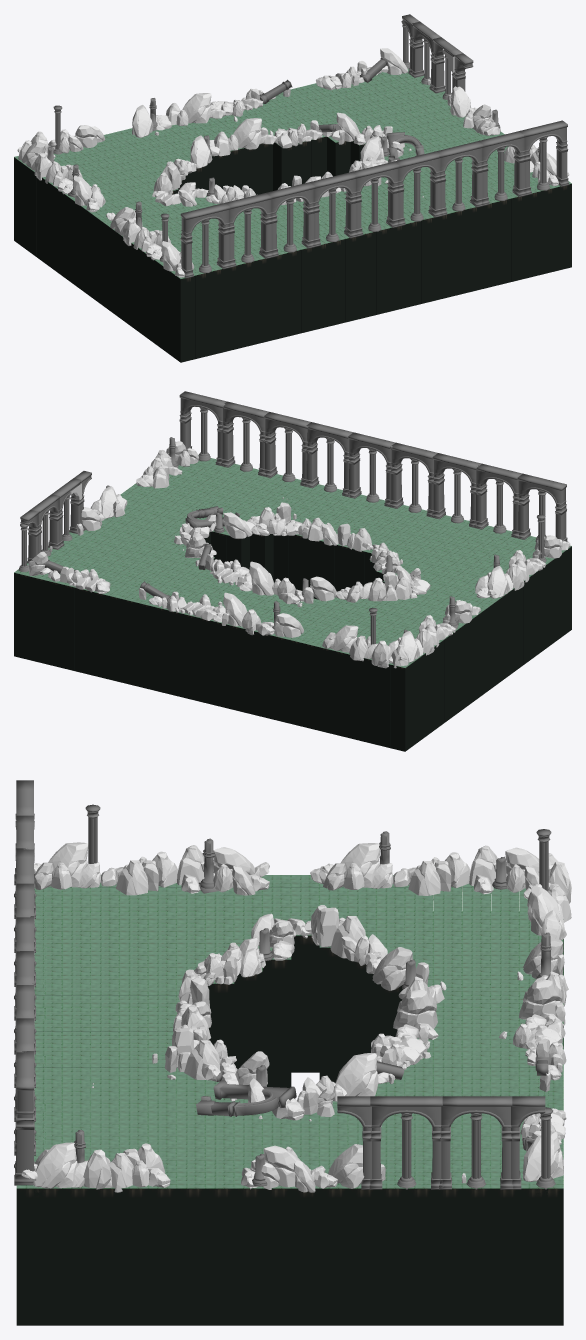
File: Map_02 (1).fbx
3 renders of one model, top to bottom at view 1: azimuth 30°, elevation 25°; view 2: azimuth 150°, elevation 25°; view 3: azimuth 270°, elevation 25°, orthographic. The views are drawn at different scales.
Parts seen in each view (by area): view 1: Sea_Temple_Map_02, Object1758.015, Sea_Temple_Map_02_1; view 2: Sea_Temple_Map_02, Object1758.015, Sea_Temple_Map_02_1; view 3: Sea_Temple_Map_02, Sea_Temple_Map_02_1, Object1758.015.
Part boxes in pixels (x1,y1,x2,y2): Sea_Temple_Map_02: [14, 69, 571, 362]; Object1758.015: [47, 14, 569, 278]; Sea_Temple_Map_02_1: [17, 48, 569, 277]; Sea_Temple_Map_02: [14, 455, 571, 751]; Object1758.015: [18, 391, 567, 644]; Sea_Temple_Map_02_1: [28, 441, 570, 668]; Sea_Temple_Map_02: [16, 875, 563, 1325]; Sea_Temple_Map_02_1: [21, 842, 571, 1192]; Object1758.015: [14, 780, 555, 1189].
Bounding box in the file's own units: 10487 × 3639 × 7793.
